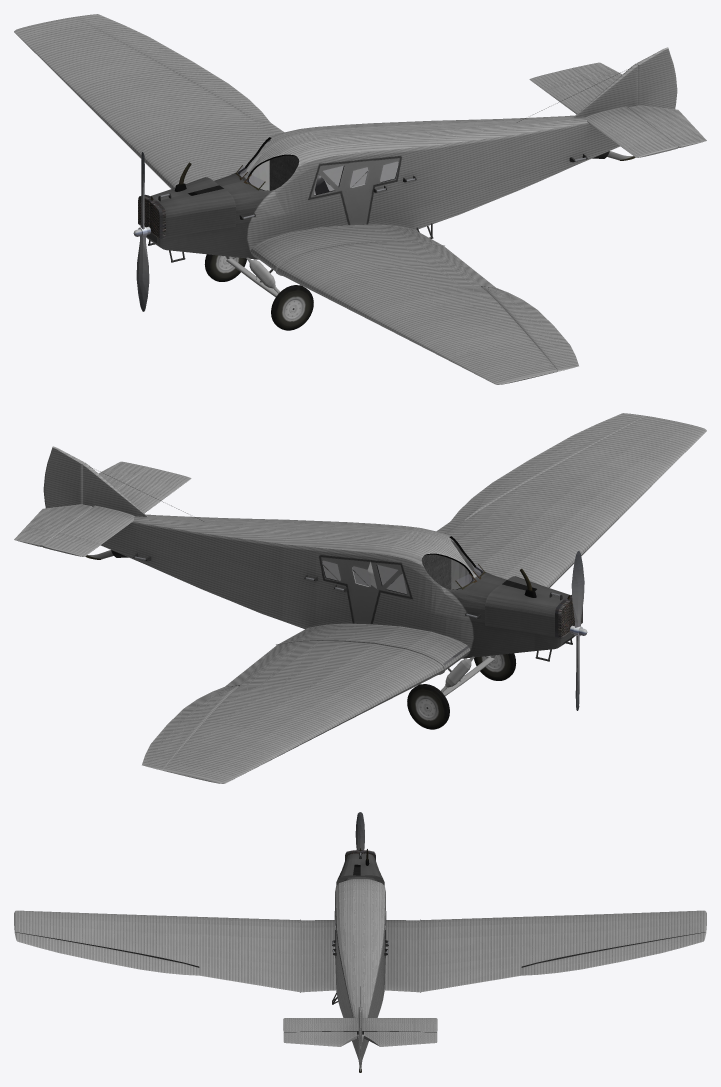
The model's file is T3T5I53NKR1PDNTV3P2ISTUPP.fbx.
The picture shows the model from 3 angles, top to bottom: view 1: azimuth 30°, elevation 25°; view 2: azimuth 150°, elevation 25°; view 3: azimuth 270°, elevation 25°; orthographic projection. The views are drawn at different scales.
Parts seen in each view (by area): view 1: Object_texture.jpg (×2), Object_interior.jpg, Object_color_0.448000-0.448000-0.512000.jpg; view 2: Object_texture.jpg (×2), Object_interior.jpg, Object_color_0.448000-0.448000-0.512000.jpg; view 3: Object_texture.jpg.
Boxes of the visible parts, x1,y1,x2,y2 form: Object_texture.jpg (×2): [14, 14, 706, 384]; Object_interior.jpg: [238, 137, 398, 195]; Object_color_0.448000-0.448000-0.512000.jpg: [237, 162, 398, 194]; Object_texture.jpg (×2): [14, 413, 706, 783]; Object_interior.jpg: [322, 536, 482, 594]; Object_color_0.448000-0.448000-0.512000.jpg: [322, 561, 483, 663]; Object_texture.jpg: [14, 812, 706, 1072].
Bounding box in the file's own units: 1.62 × 0.516 × 2.5.
